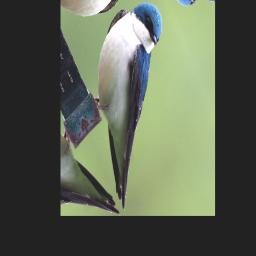Swallow: (63, 0, 206, 211)
